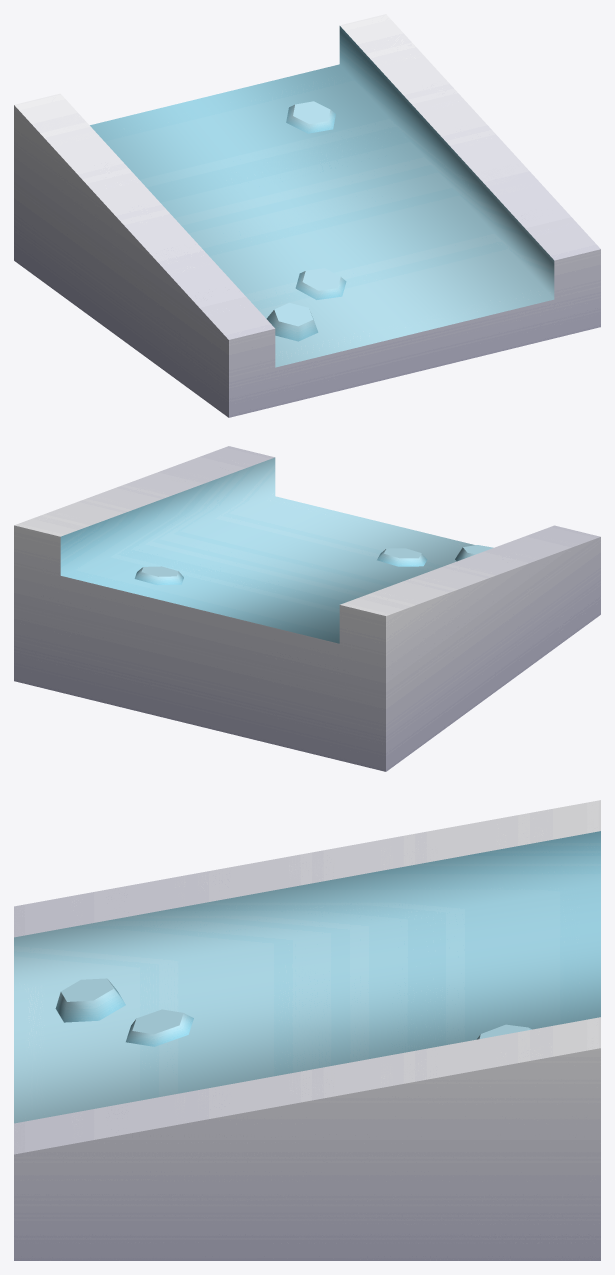
Rendered from tower-defense-kit--snow-tile-straight-slope.glb.
3 views of the same model, one above another, from view 1: azimuth 30°, elevation 25°; view 2: azimuth 150°, elevation 25°; view 3: azimuth 270°, elevation 25° (orthographic). The views are drawn at different scales.
Parts seen in each view (by area): view 1: snow-tile-straight-slope; view 2: snow-tile-straight-slope; view 3: snow-tile-straight-slope.
Part boxes in pixels (x1=…): snow-tile-straight-slope: x1=14, y1=14, x2=600, y2=417; snow-tile-straight-slope: x1=14, y1=446, x2=600, y2=771; snow-tile-straight-slope: x1=14, y1=800, x2=600, y2=1260.
Size of the model in its own units: 1 by 0.4 by 1.
1 material, 1 textured.
